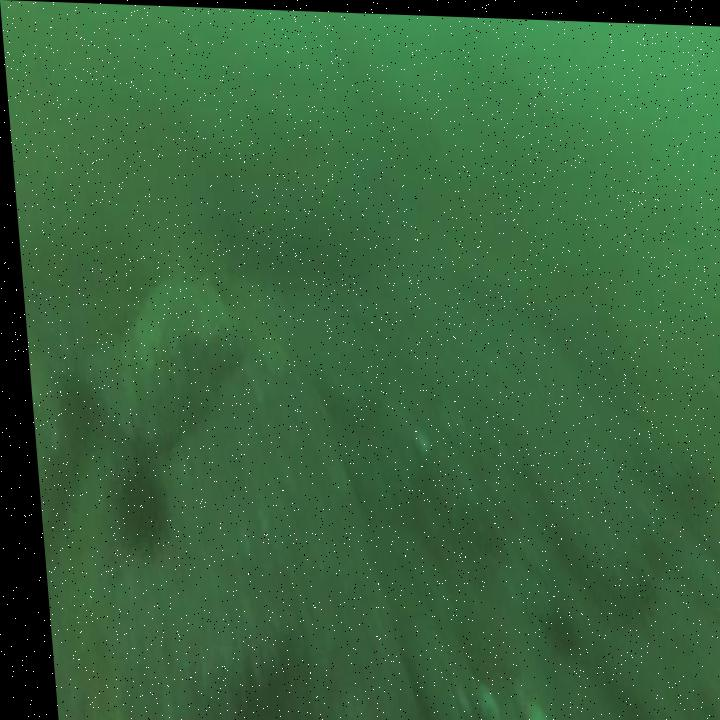echinus: (102, 465, 163, 553), (53, 378, 98, 446)
scallop: (464, 679, 491, 720), (511, 696, 540, 720), (404, 423, 424, 454)
